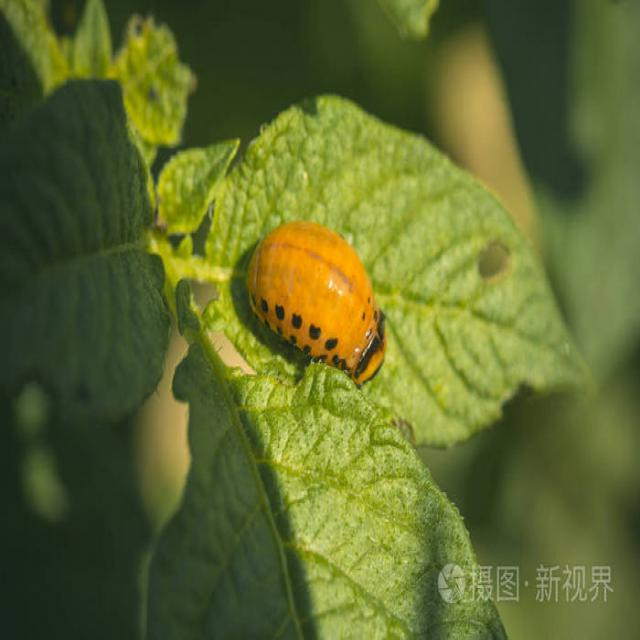ShuCaiHuaBanChong-Larva-: (236, 212, 411, 408)
